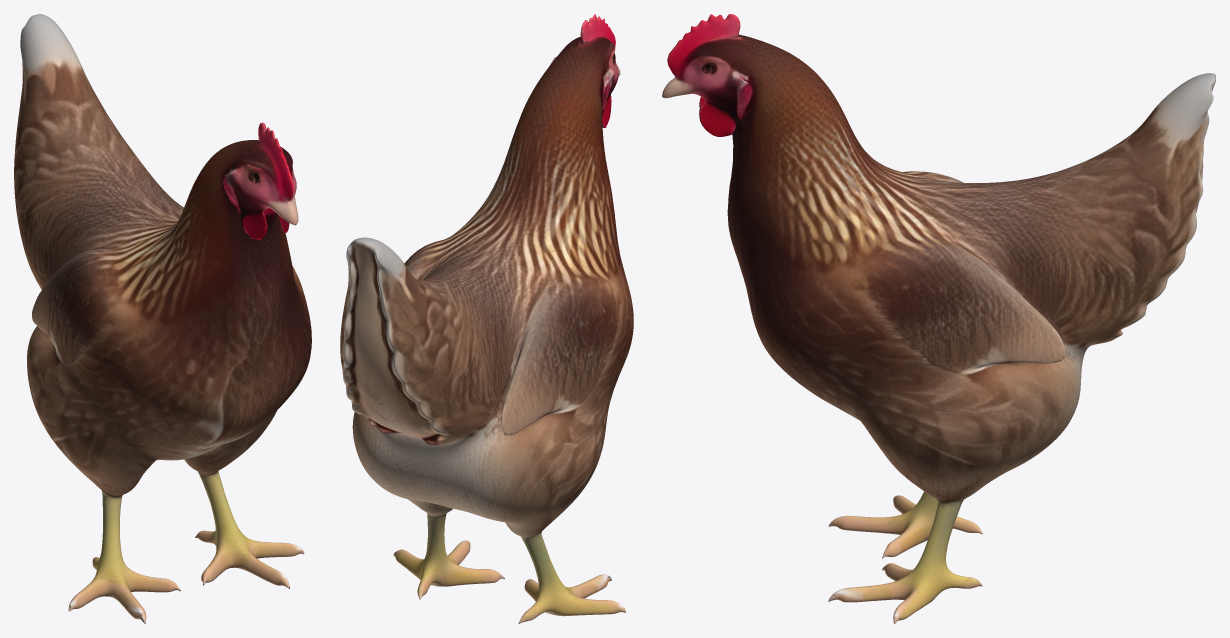
The model's file is vet_animal_chicken.glb.
3 views of the same model, side by side, from view 1: azimuth 30°, elevation 25°; view 2: azimuth 150°, elevation 25°; view 3: azimuth 270°, elevation 25° (orthographic). The views are drawn at different scales.
Visible parts, largest first — view 1: model; view 2: model; view 3: model.
Part boxes in pixels (left/top/right/bottom): model: left=14, top=14, right=311, bottom=623; model: left=340, top=14, right=633, bottom=623; model: left=662, top=14, right=1215, bottom=623.
Size of the model in its own units: 0.9007 by 1.9 by 1.72.
Materials: 1 (1 with a texture image).
